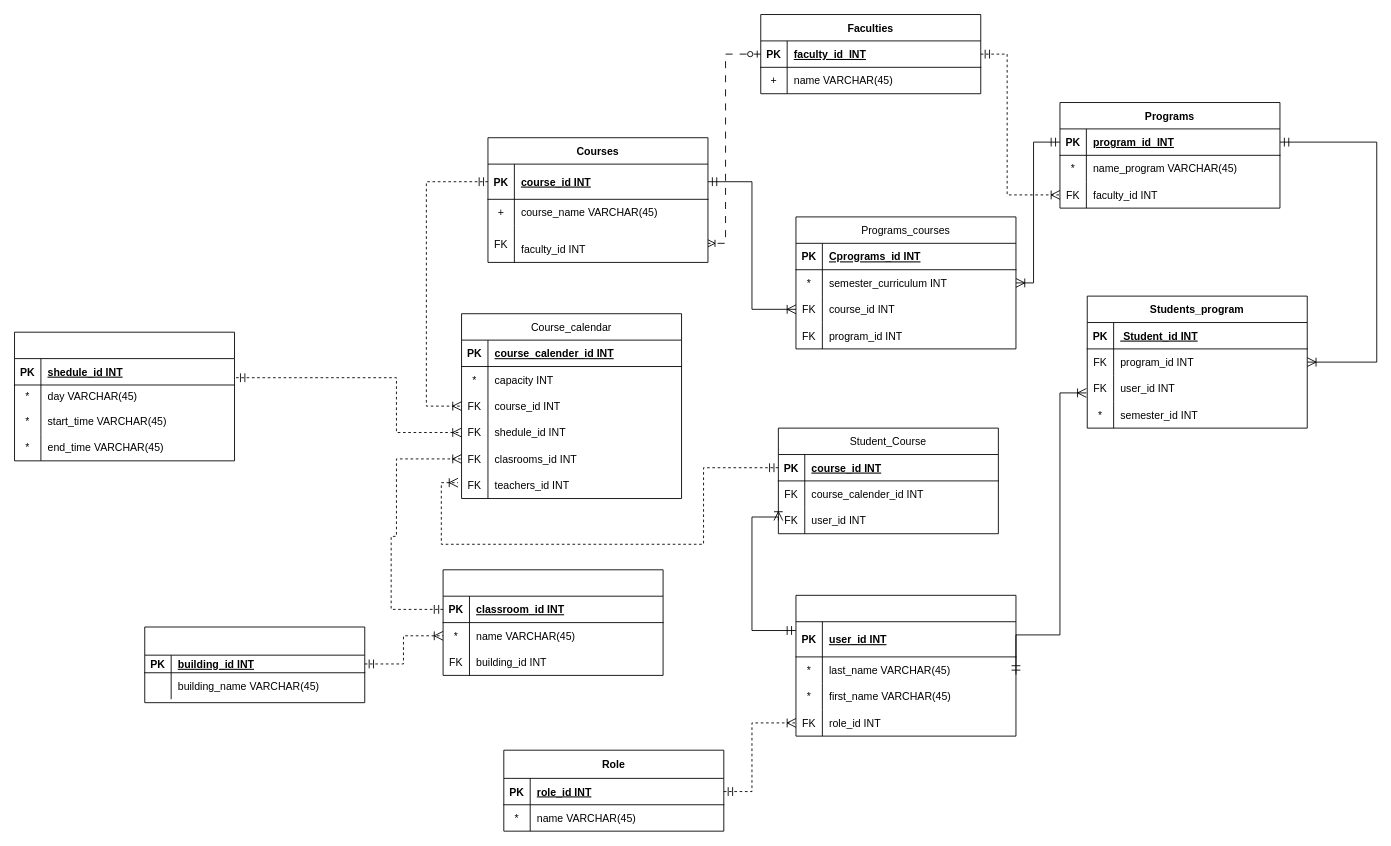
This 1391x846 diagram has some shape labels left out. Each missing label, with the box of its shape:
Buildings: (144, 626, 365, 703)
Classrooms: (442, 569, 663, 675)
Schedule: (14, 331, 235, 461)
Users: (795, 594, 1016, 736)
